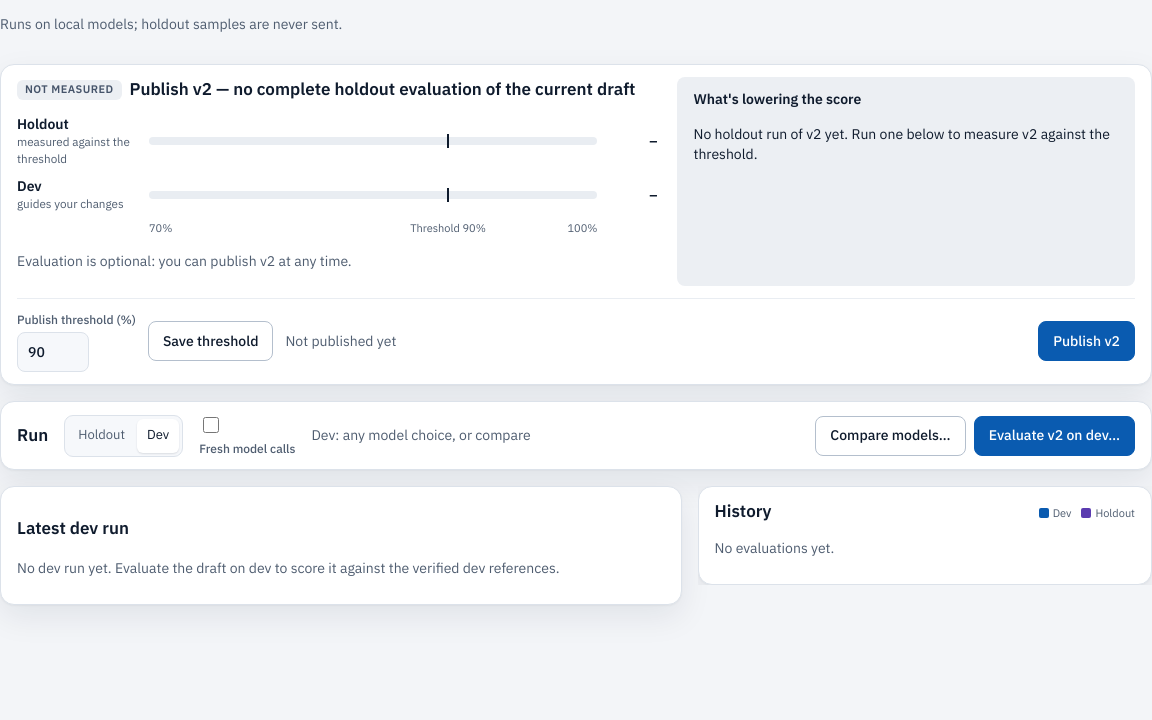
it: EvaluateTab › does not tell the page when starting an evaluation fails
Click the button "Evaluate v2 on dev…": (1054, 436) [974,416,1135,456]
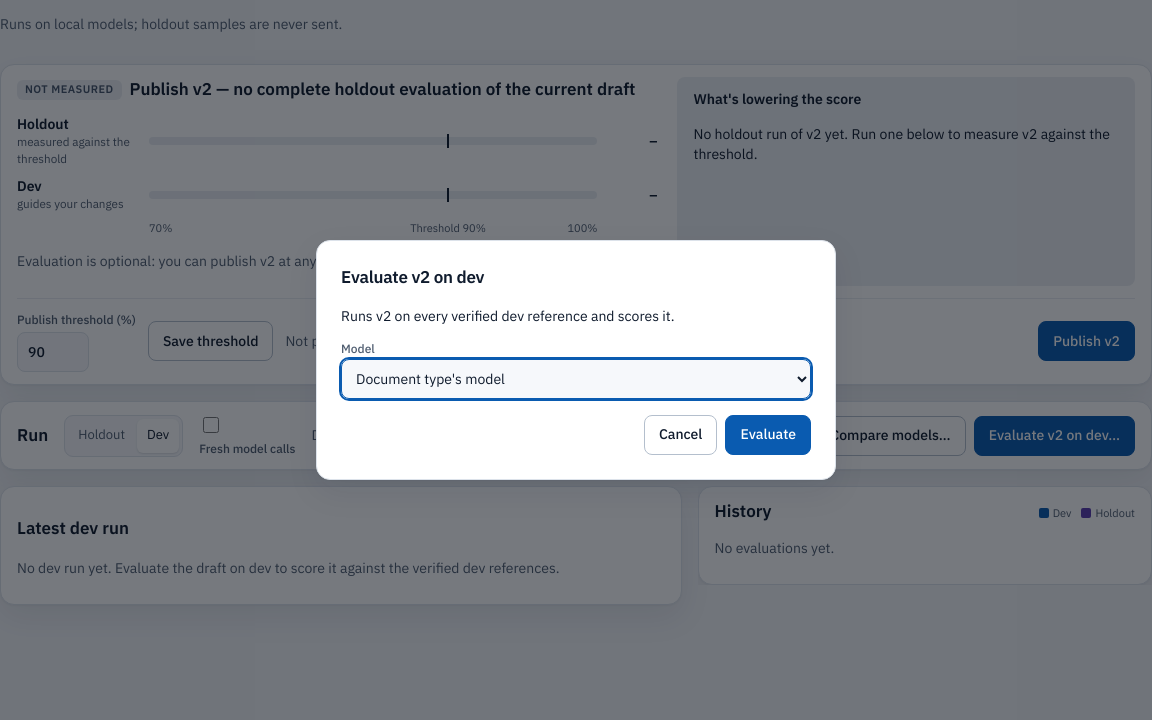
Click the button "Evaluate": (768, 435) [725,415,811,455]
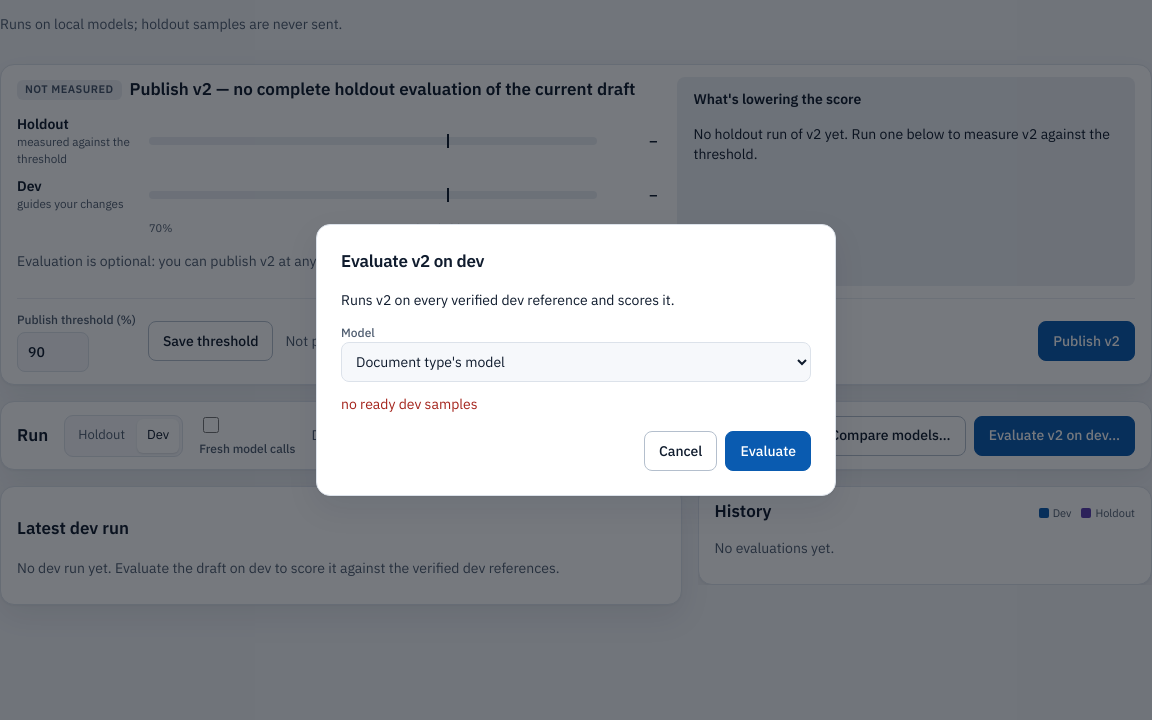
Check: the text "no ready dev samples" is shown, box [341,396,478,414]
